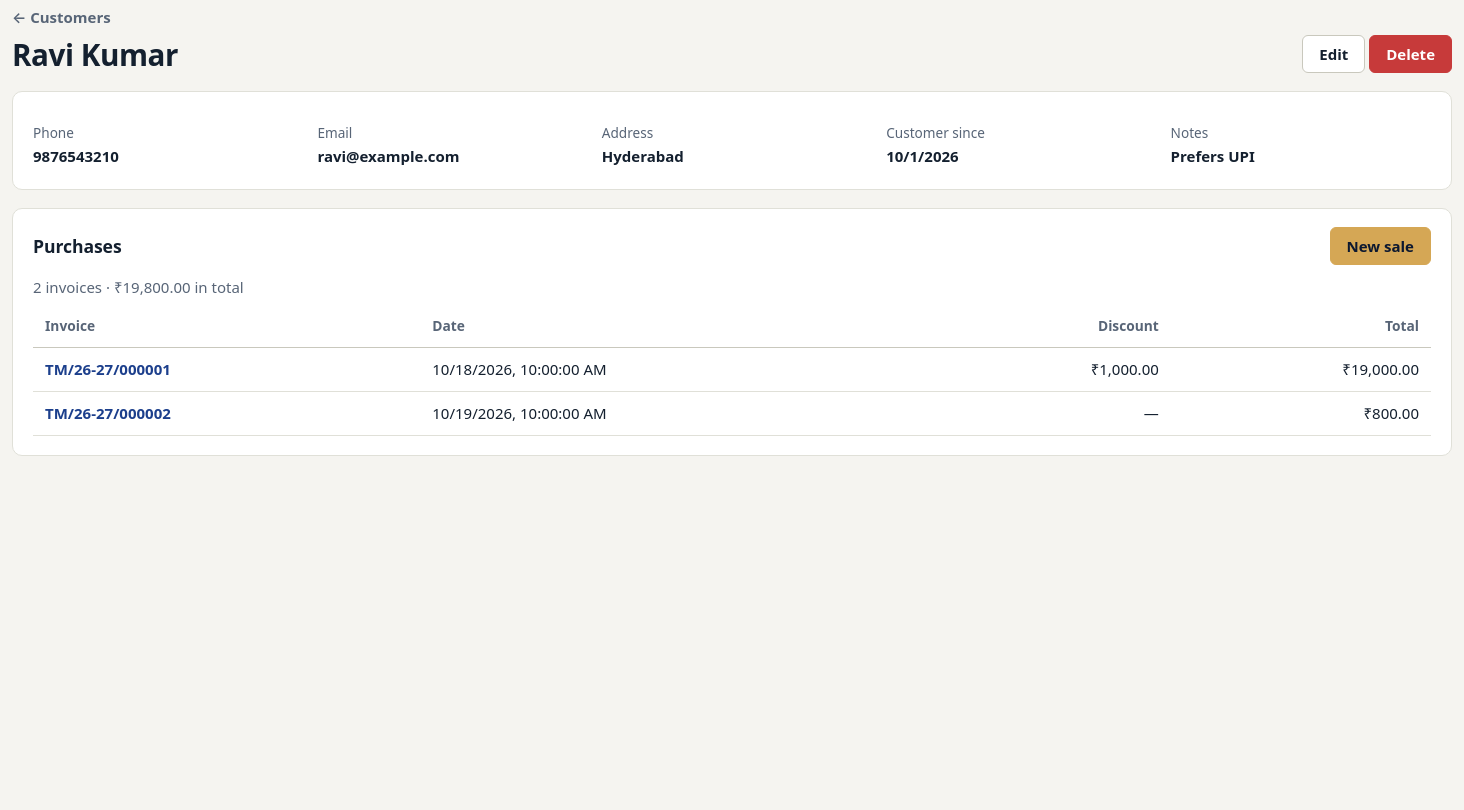
Test case: CustomerDetailPage › an Admin can delete after confirming; a failure (customer has sales) is explained, not hidden
Step 1. Click the button "Delete" → x=1411, y=54, box top-left (1369, 35), bottom-right (1452, 73)
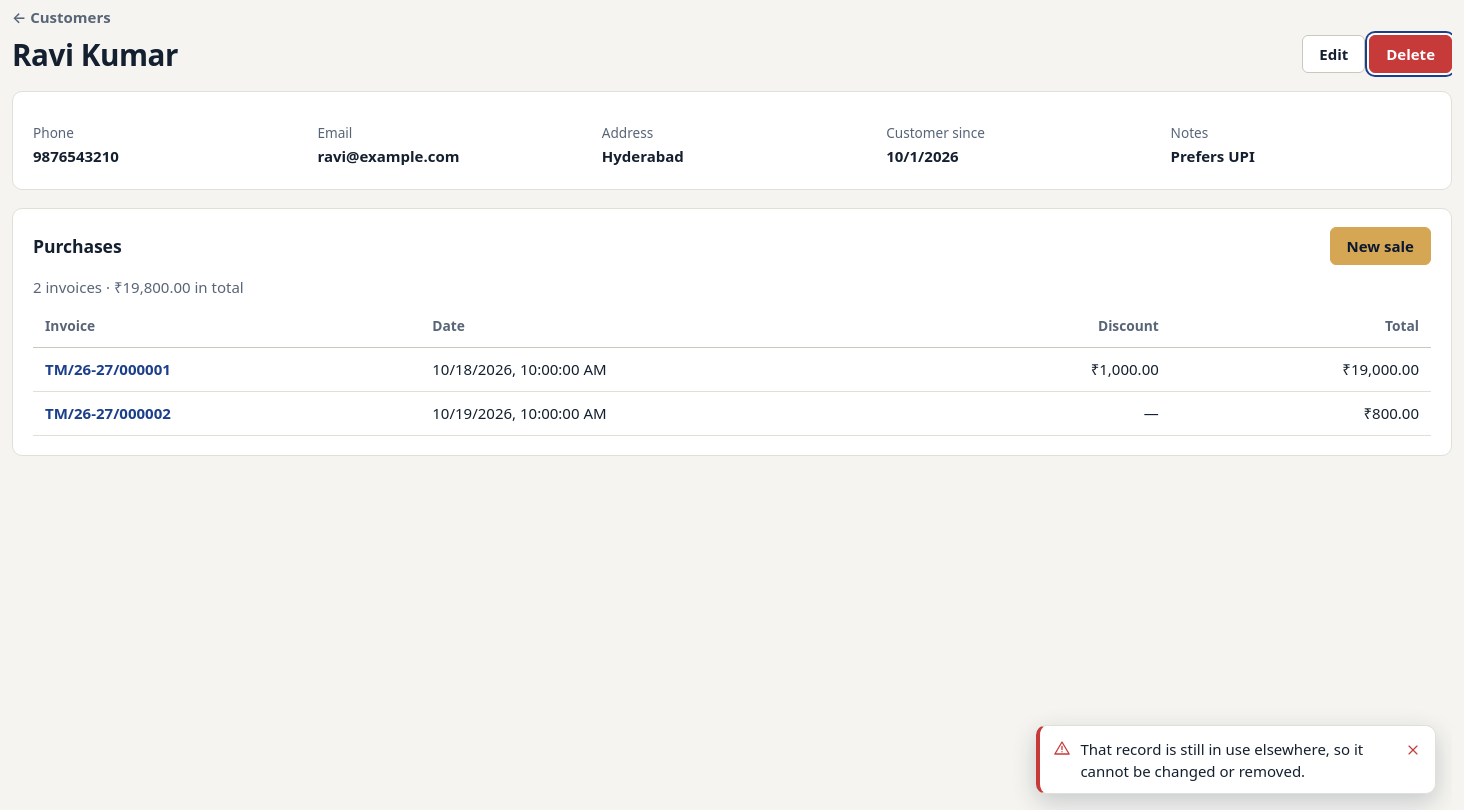
Expected: the text "list" is not shown
Now the text "still in use elsewhere" is shown, box top-left (1080, 739), bottom-right (1363, 781)
Step 2. Click the button "Delete" → x=1411, y=54, box top-left (1369, 35), bottom-right (1452, 73)
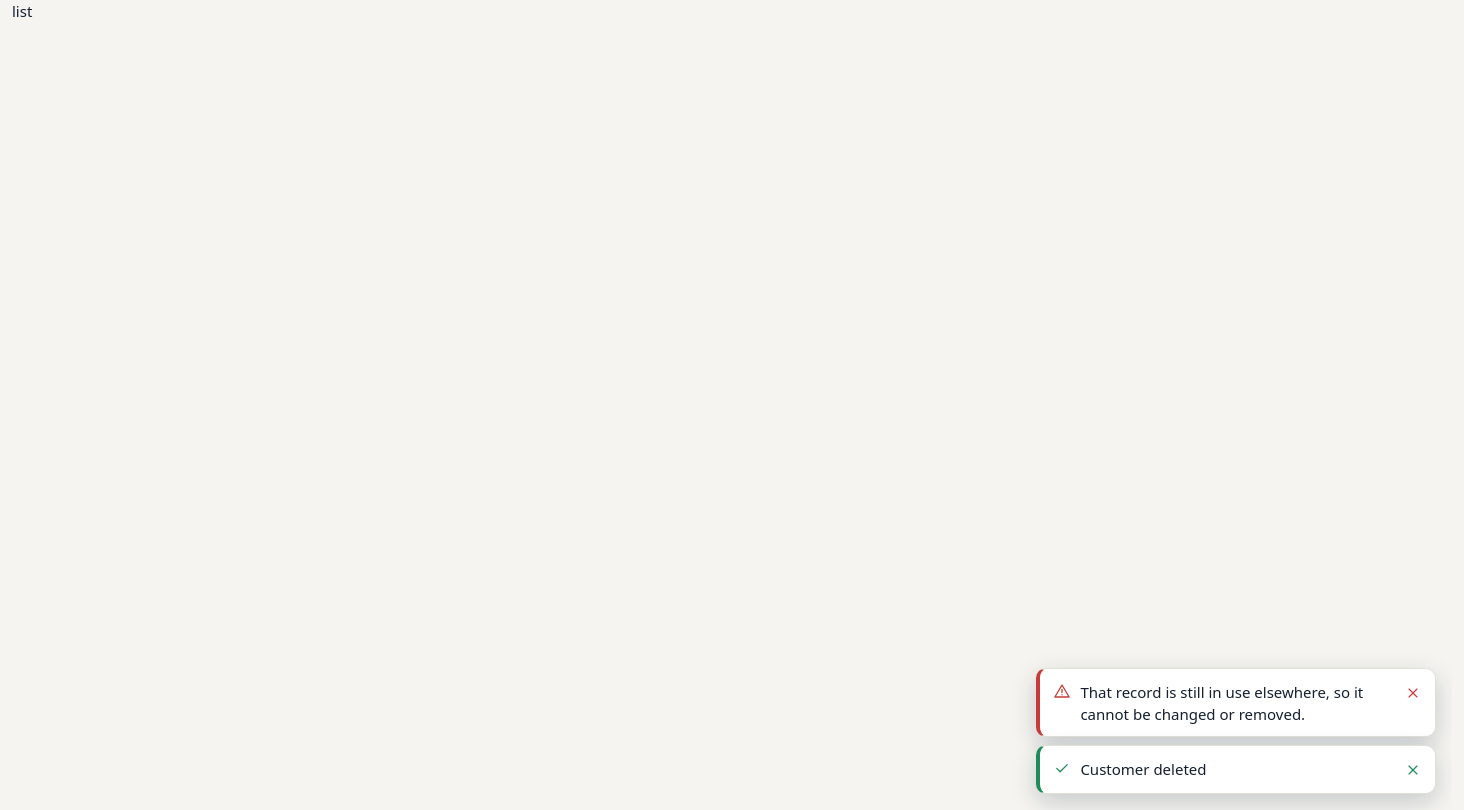
Now the text "list" is shown, box top-left (12, 1), bottom-right (32, 21)
